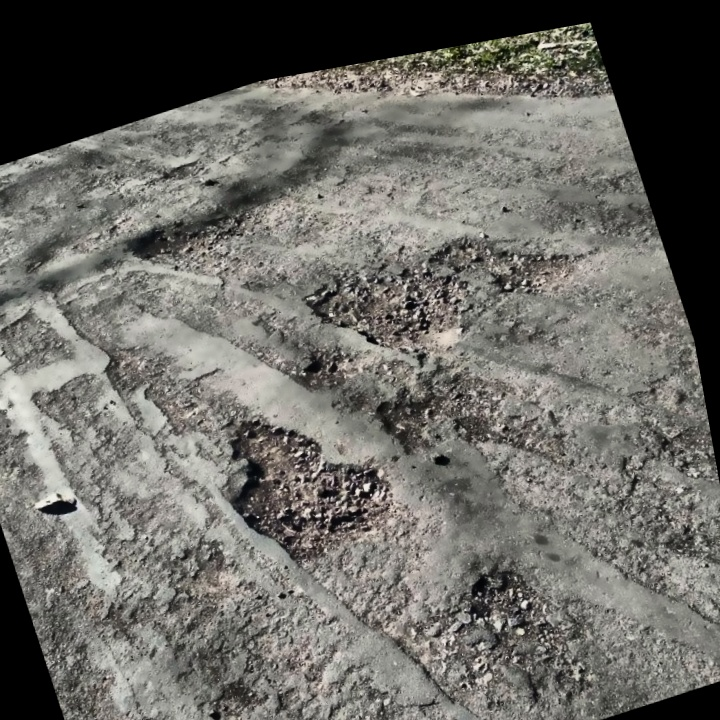pothole: (197, 376, 415, 588), (289, 225, 487, 385), (455, 545, 597, 716), (422, 198, 596, 324), (368, 360, 525, 478), (120, 206, 234, 293), (294, 337, 373, 394)
